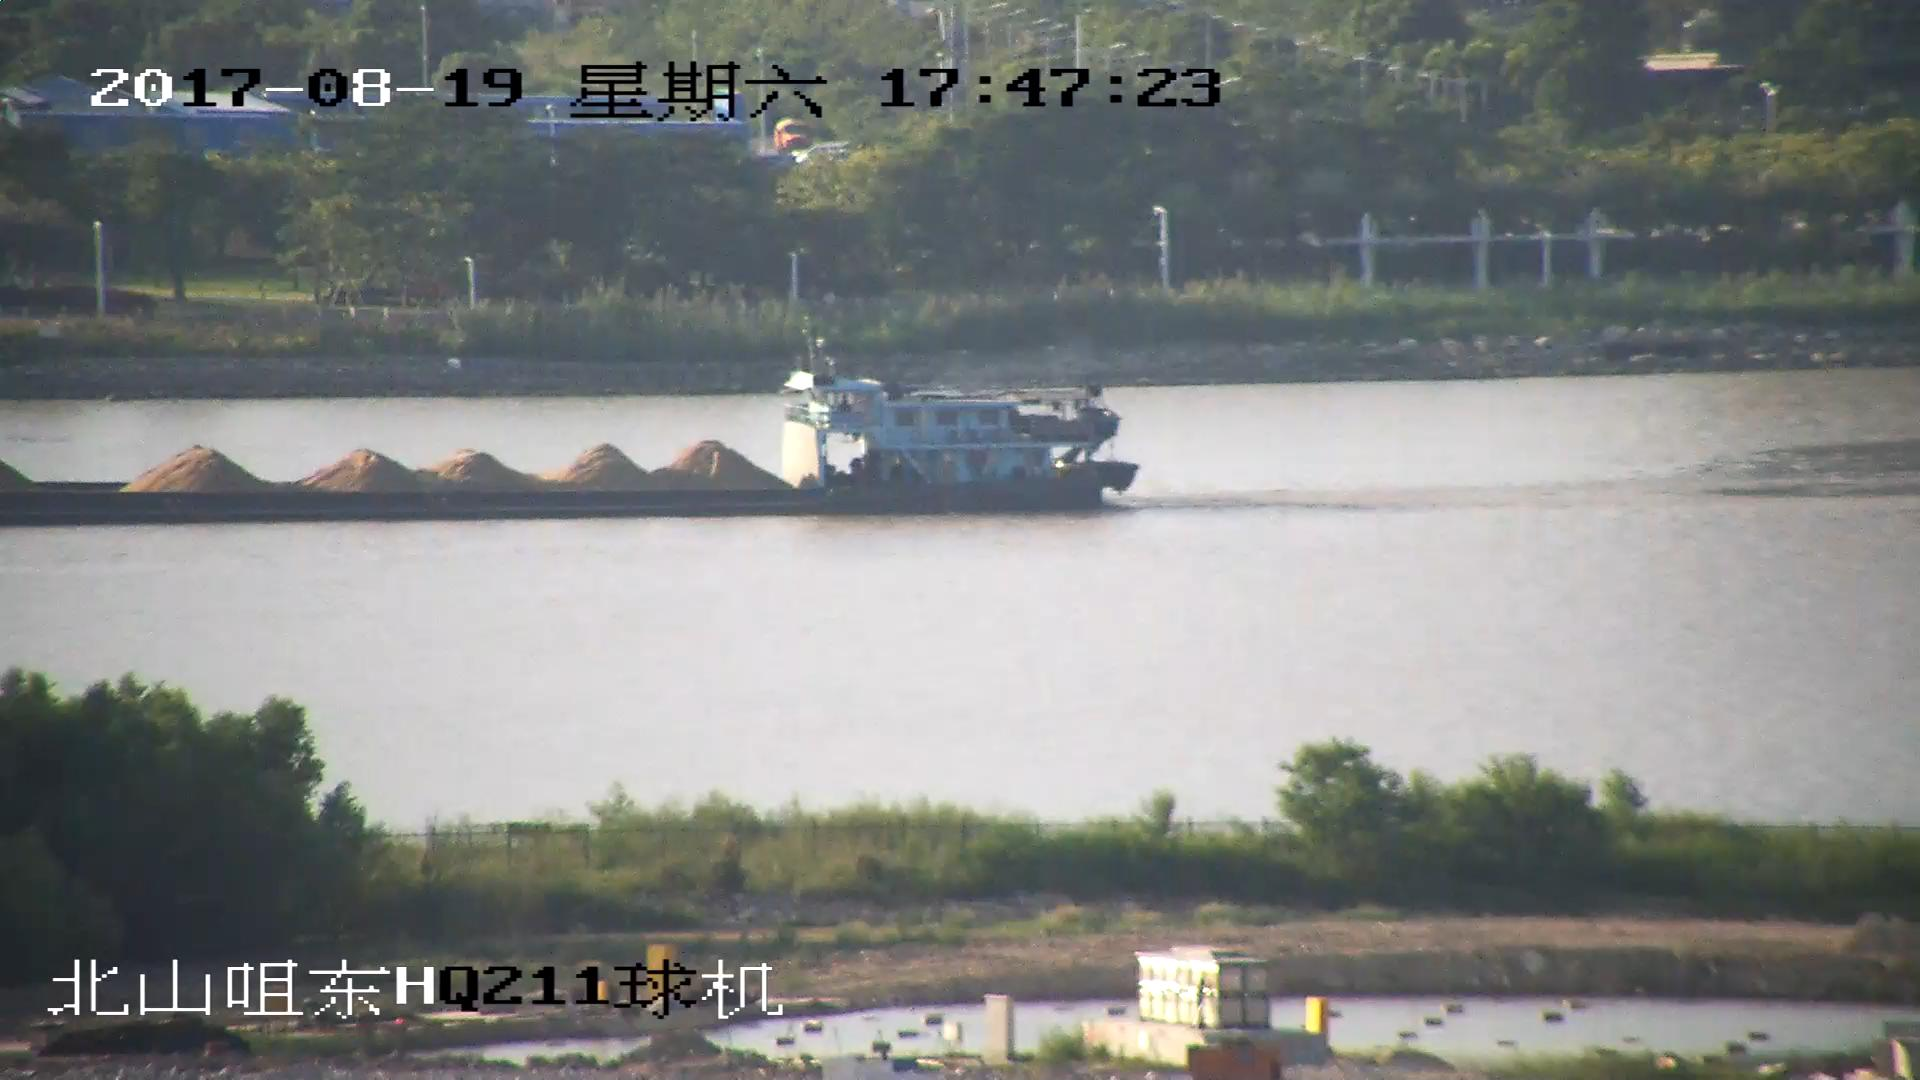ore carrier: (1, 329, 1138, 530)
